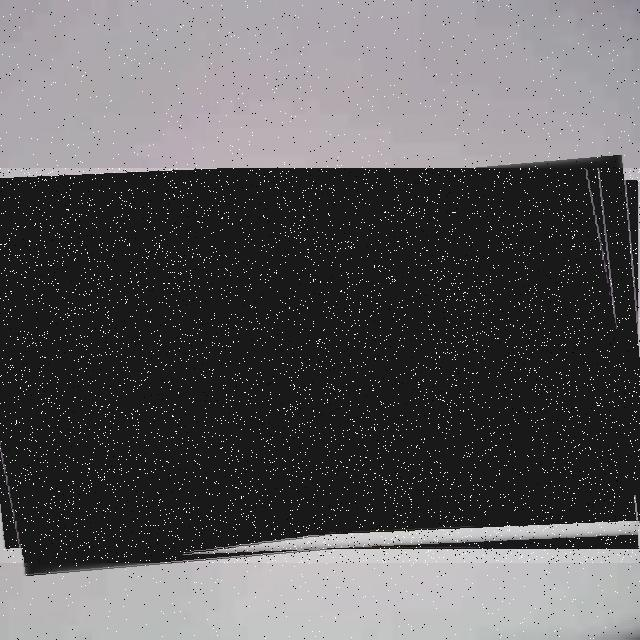dua ribu rupiah: (0, 168, 640, 563)
